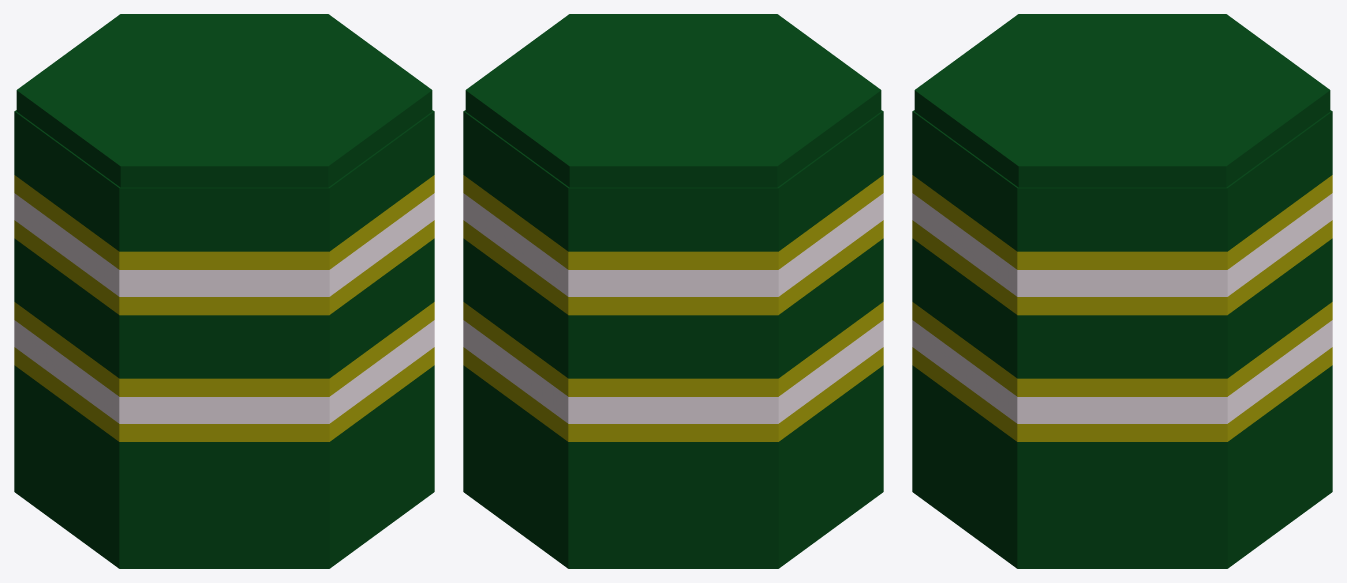
Rendered from Rockettower.glb.
The picture shows the model from 3 angles, left to right: view 1: azimuth 30°, elevation 25°; view 2: azimuth 150°, elevation 25°; view 3: azimuth 270°, elevation 25°; orthographic projection.
Parts seen in each view (by area): view 1: silo, lid2, lid1; view 2: silo, lid2, lid1; view 3: silo, lid1, lid2.
Part boxes in pixels (x1,y1,x2,y2): silo: (14, 110, 434, 568); lid2: (16, 14, 328, 187); lid1: (121, 14, 432, 187); silo: (463, 110, 883, 568); lid2: (569, 14, 881, 187); lid1: (465, 14, 776, 187); silo: (912, 110, 1332, 568); lid1: (914, 90, 1330, 187); lid2: (915, 14, 1329, 89).
Size of the model in its own units: 1.3 by 1.59 by 1.5.
